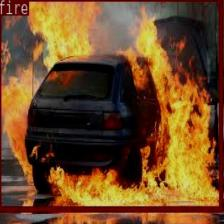fire: (0, 0, 222, 210)
